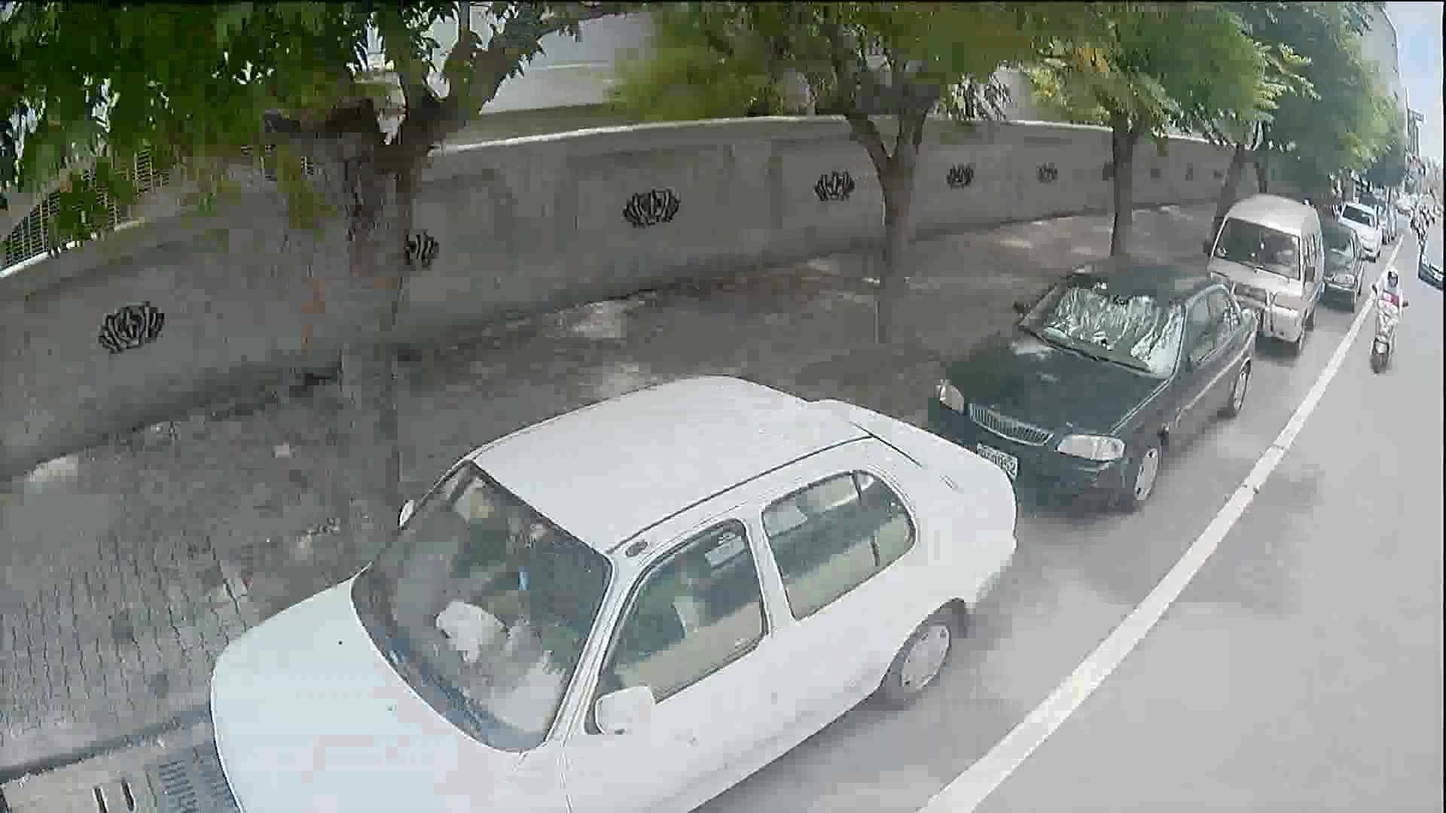person: (1374, 269, 1402, 312)
